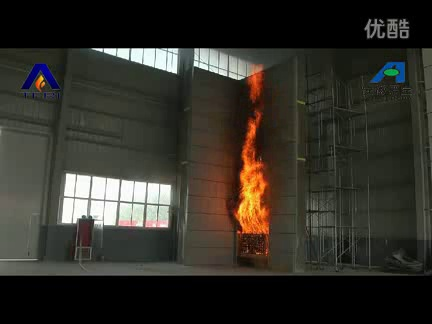fire: (234, 64, 272, 236)
